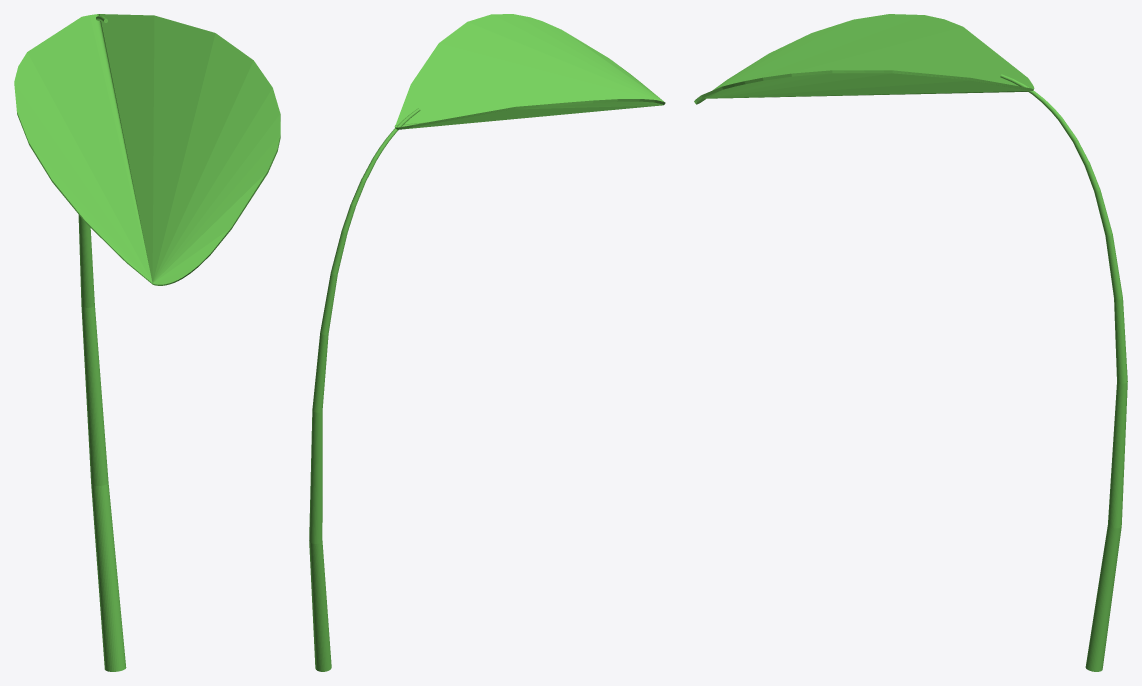
3 renders of one model, left to right at view 1: azimuth 30°, elevation 25°; view 2: azimuth 150°, elevation 25°; view 3: azimuth 270°, elevation 25°, orthographic. The views are drawn at different scales.
Parts seen in each view (by area): view 1: Extrude, Sweep; view 2: Extrude, Sweep; view 3: Extrude, Sweep.
Boxes of the visible parts, x1,y1,x2,y2 form: Extrude: (14, 14, 280, 285); Sweep: (78, 15, 126, 671); Extrude: (394, 14, 665, 129); Sweep: (309, 108, 420, 671); Extrude: (694, 14, 1034, 104); Sweep: (1000, 74, 1127, 671).
Size of the model in its own units: 214 by 603 by 402.
